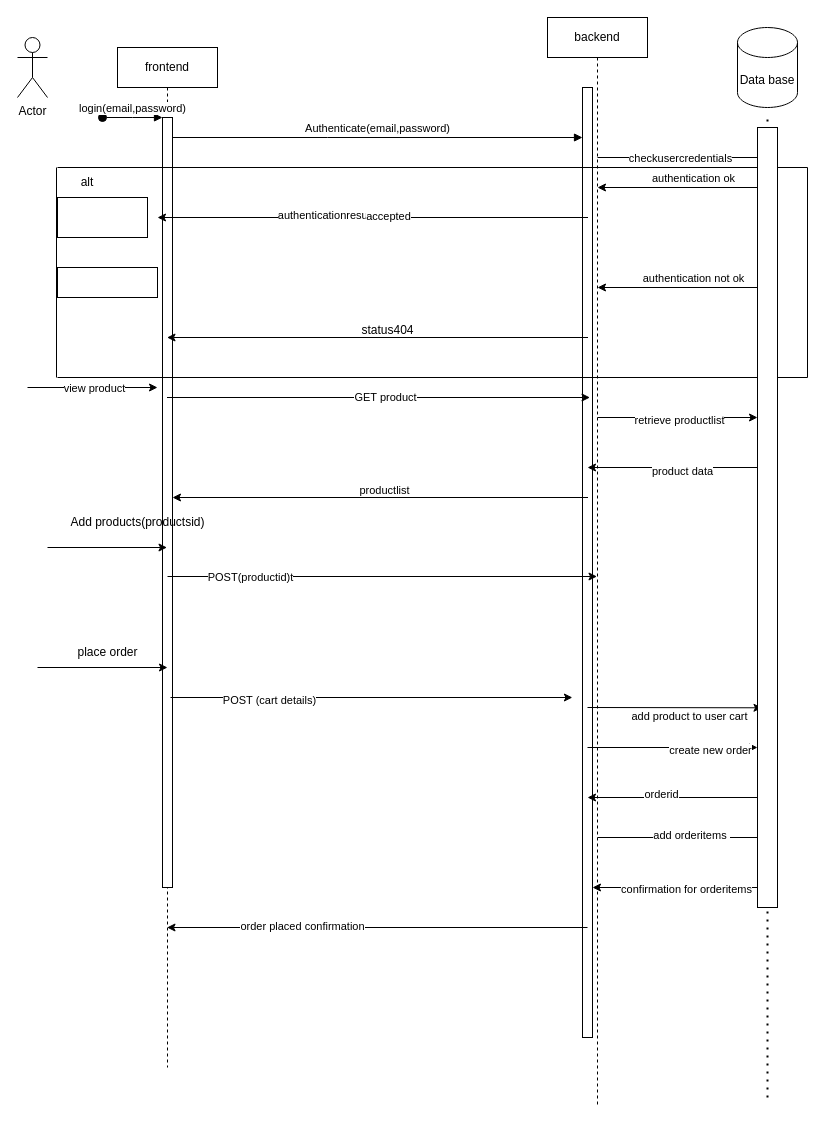
Image size: 826x1125. Some labels were removed from this diagram. Each missing label, with the box of its shape:
else: (56, 266, 158, 298)
if ok: (56, 196, 148, 238)
